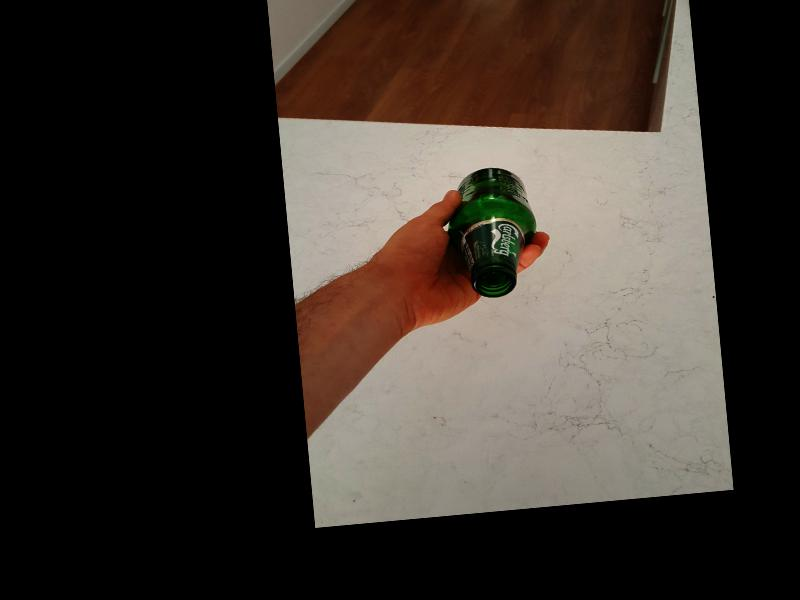Beer: (444, 163, 541, 301)
